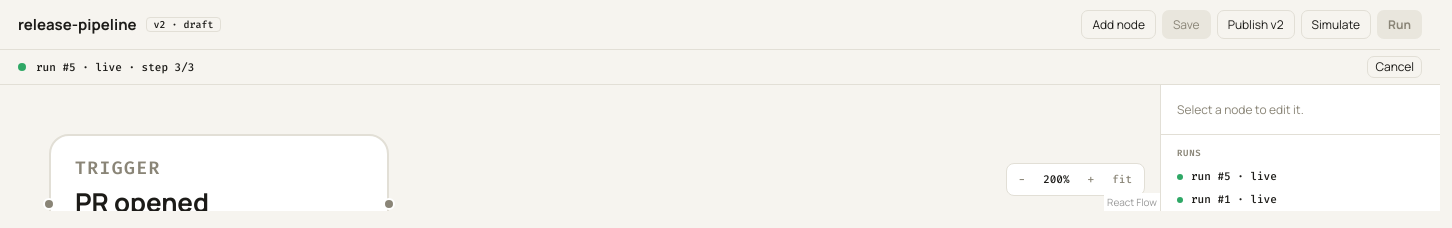
Test: GraphScreen › cancels the picked run the strip names, and offers no Cancel for it once the connection goes
Click the button "run #1 · live".
click(1234, 200)  # box [1161, 188, 1440, 211]
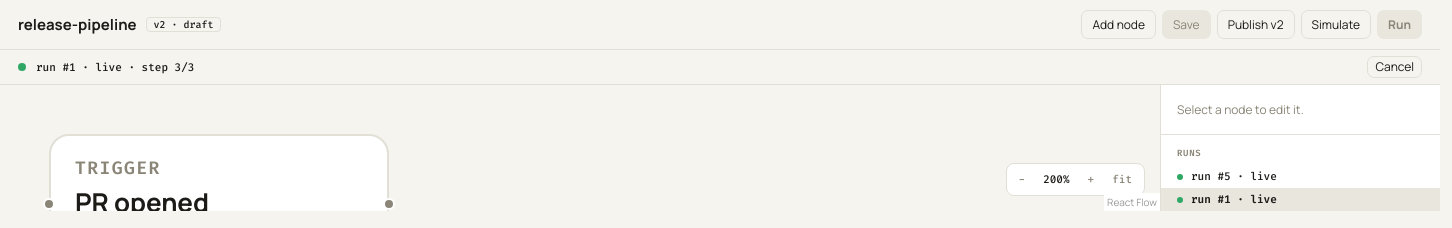
Expected: the element showing "run #1 · live · step 3/3 Cancel" is shown, [0, 50, 1440, 85]
Click the button "Cancel".
click(1395, 67)  # box [1367, 56, 1422, 78]
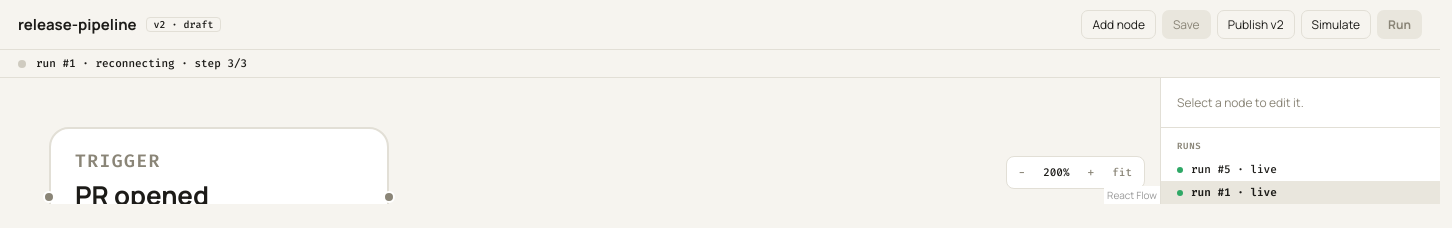
Expected: the element showing "run #1 · reconnecting · step 3/3" is shown, [0, 50, 1440, 78]
